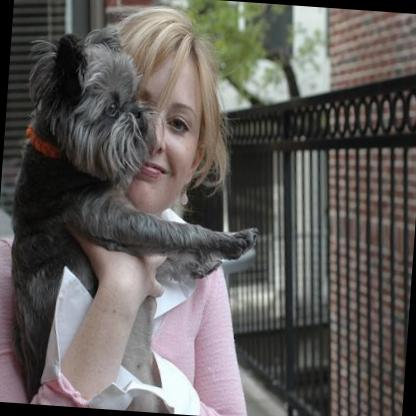affenpinscher: (0, 21, 271, 413), (0, 25, 198, 411)
